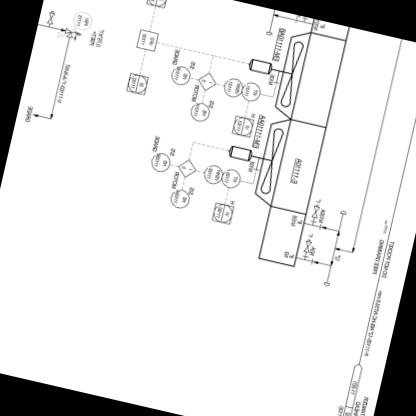LMI: (186, 101, 212, 125), (220, 76, 244, 100), (240, 80, 262, 104), (201, 162, 223, 186), (168, 188, 192, 210), (148, 152, 172, 174), (168, 64, 192, 86), (219, 168, 242, 190)
TAG: (210, 202, 234, 226), (229, 114, 253, 138), (124, 72, 148, 96), (145, 0, 169, 9)
